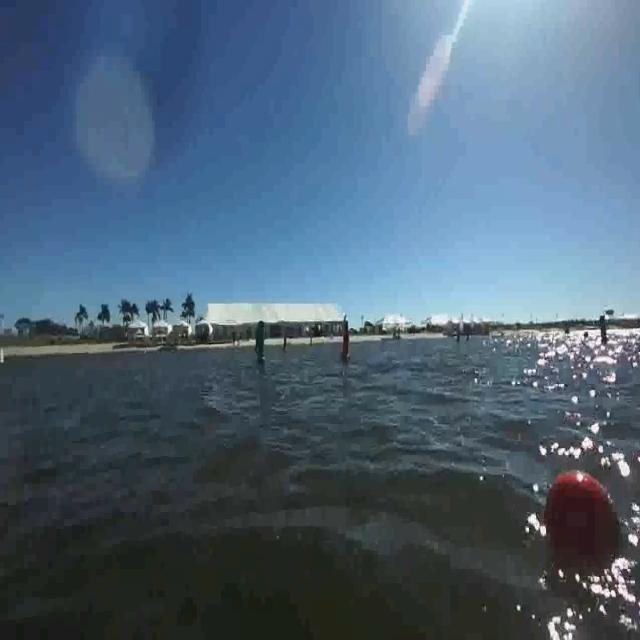green-column-buoy: (252, 318, 268, 365)
red-buoy: (540, 465, 624, 572)
red-column-buoy: (342, 326, 353, 360)
